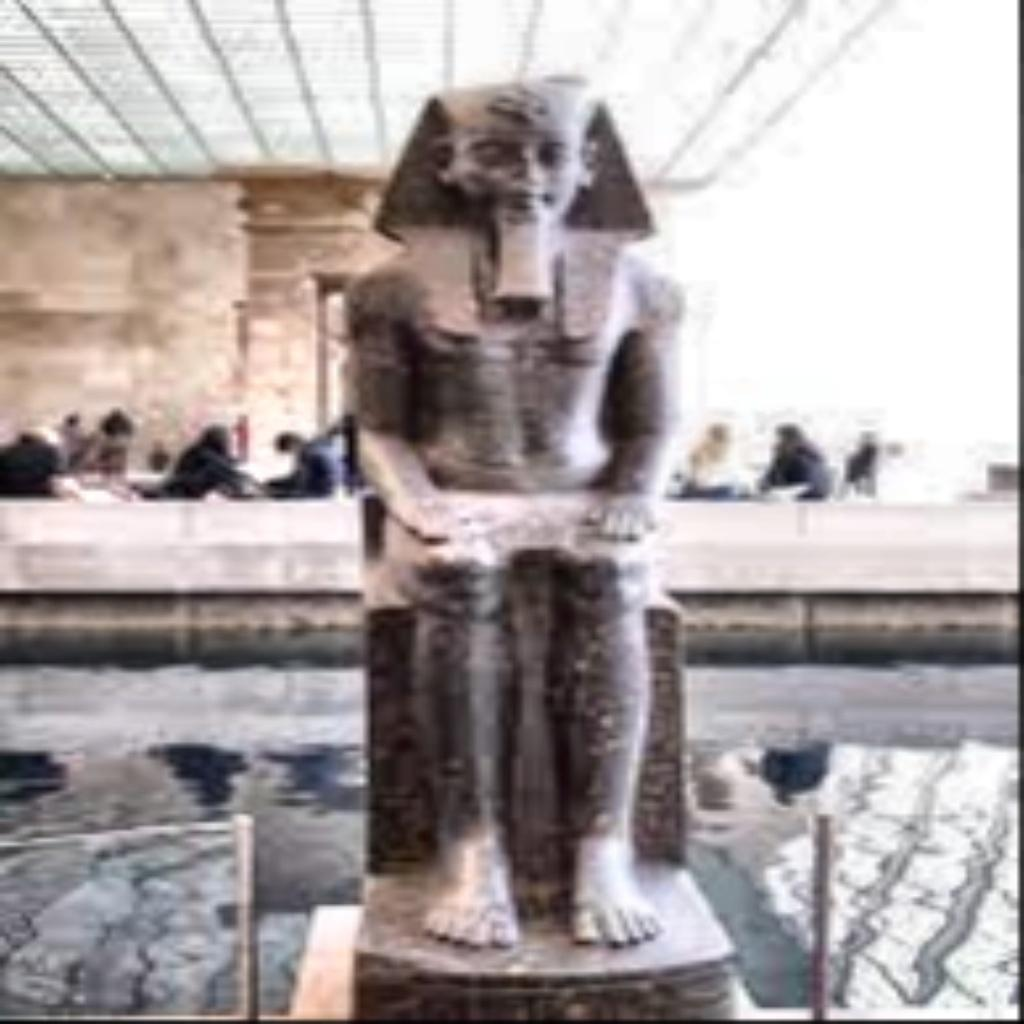Amenhotep III: (343, 79, 676, 1012)
